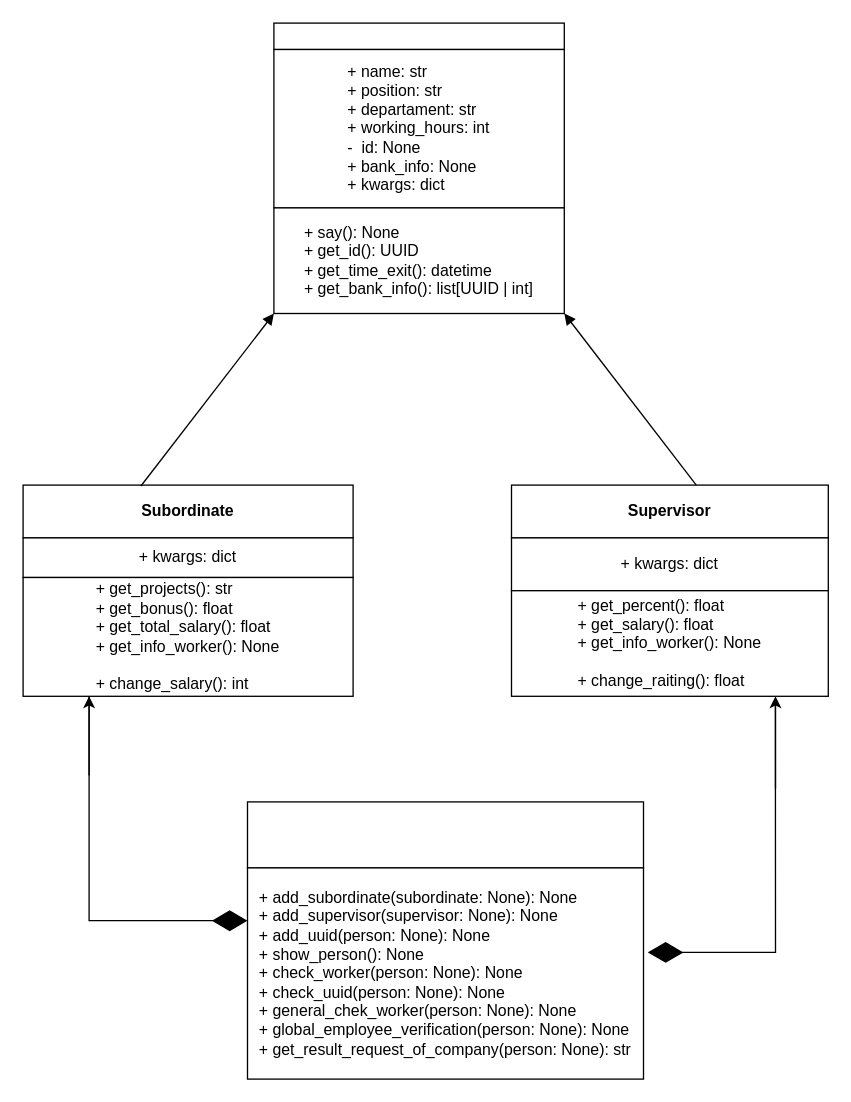
The diagram is 851 pixels wide and 1102 high, and some of its shapes have lost their labels. The box of each missing label's shape, as (x1, y1, x2, y2) in pixels:
Company + name: str: (246, 801, 644, 868)
Person: (273, 22, 564, 50)
